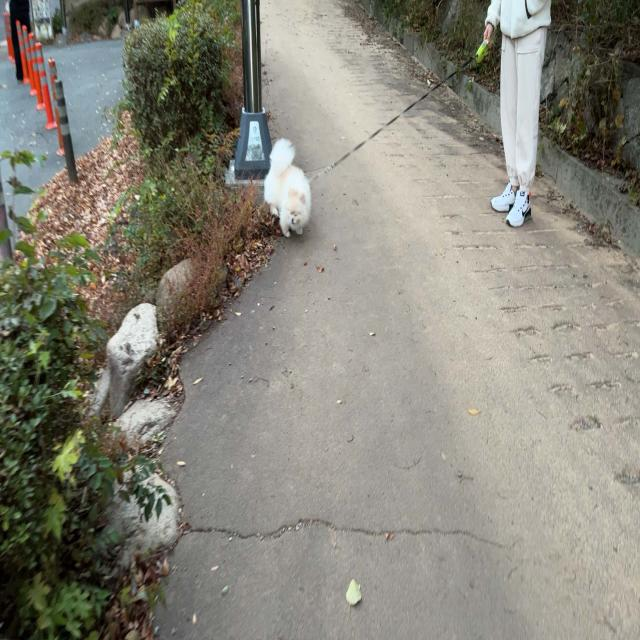Leashed_Dog: (264, 0, 531, 237)
